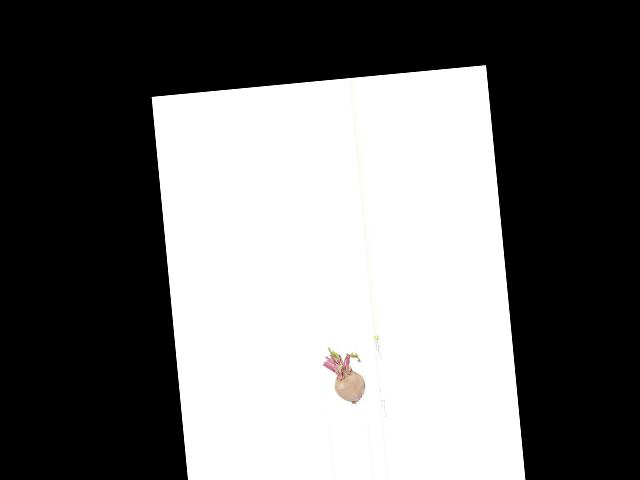beet: (321, 345, 365, 406)
